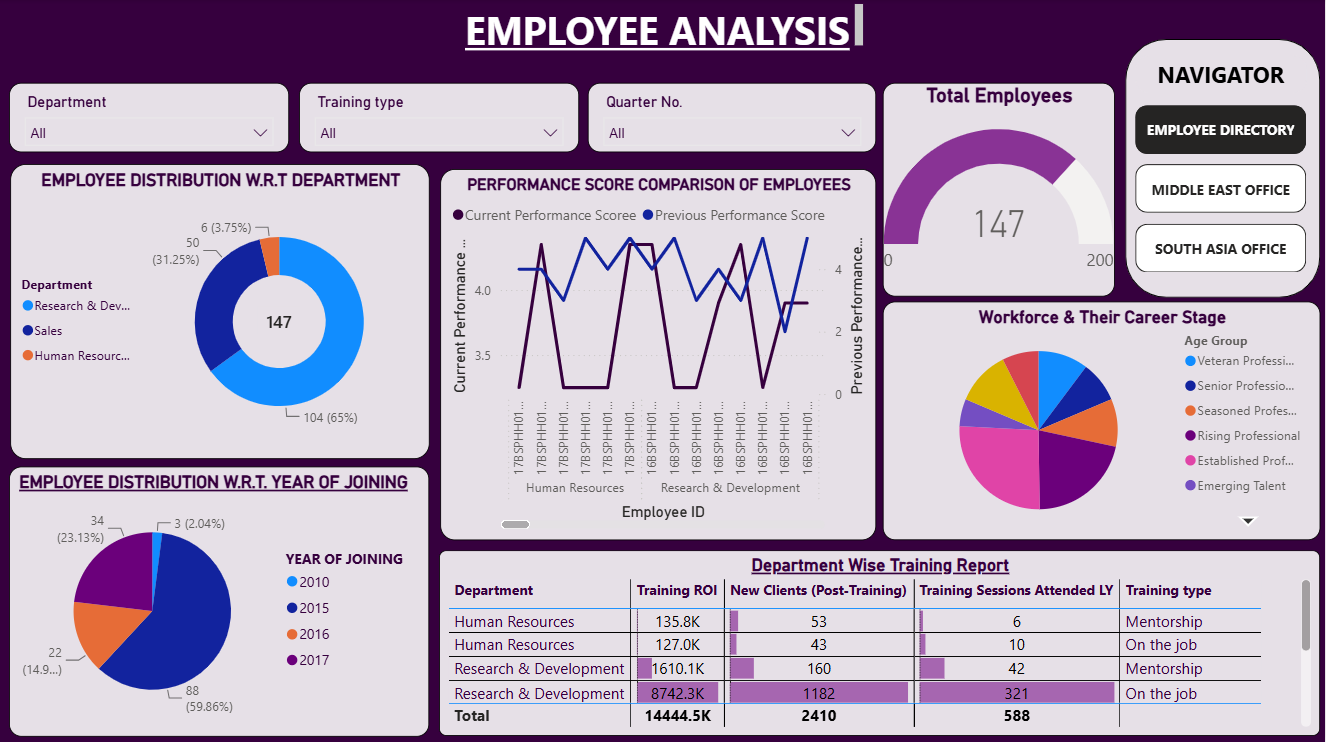

The dashboard page shown, as its layout file describes it:
{"tool":"powerbi","page":{"name":"EMPLOYEE DIRECTORY","canvas":[1280,720],"ordinal":0},"visuals":[{"type":"gauge","title":"Total Employees","fields":{"Y":["Count(Employee ID (Traning impact).Employee ID)"]},"box":[852.5,81.2,223.8,206.2],"z":0},{"type":"textbox","box":[440,0,398.6,54.3],"z":1000},{"type":"pieChart","title":"EMPLOYEE DISTRIBUTION W.R.T. YEAR OF JOINING","fields":{"Category":["Training initatives.Date of Joining.Variation.Date Hierarchy.Year","Training initatives.Date of Joining.Variation.Date Hierarchy.Month"],"Y":["CountNonNull(Training initatives.Employee ID)"]},"box":[9.7,451.2,405.4,260.6],"z":2000},{"type":"tableEx","title":"Department Wise Training Report ","fields":{"Values":["Employee ID (Traning impact).Department","Sum(Employee ID (Traning impact).Training ROI)","Sum(Employee ID (Traning impact).New client acquisition post-training)","Sum(Employee ID (Traning impact).No. of Training programs attended  Last Year)","Employee ID (Traning impact).Training type"]},"box":[424.6,531.7,850.5,179.4],"z":3000},{"type":"donutChart","title":"EMPLOYEE DISTRIBUTION W.R.T DEPARTMENT","fields":{"Category":["Employee ID (Traning impact).Department","Employee ID (Traning impact).JobRole"],"Y":["Count(Employee ID (Traning impact).Employee ID)"]},"box":[10.9,159.3,405,284.6],"z":4000,"group":"g1"},{"type":"pieChart","title":"Workforce & Their Career Stage","fields":{"Category":["Employee ID (Traning impact).Age Group","Employee ID (Traning impact).Age"],"Y":["CountNonNull(Employee ID (Traning impact).Employee ID)"]},"box":[852.5,292.5,422.5,230],"z":4000},{"type":"slicer","fields":{"Values":["Employee ID (Traning impact).Department"]},"box":[10,81.2,270,67.5],"z":5000},{"type":"slicer","fields":{"Values":["Employee ID (Traning impact).Training type"]},"box":[290,81.2,270,67.5],"z":6000},{"type":"lineChart","title":"PERFORMANCE SCORE COMPARISON OF EMPLOYEES","fields":{"Category":["Employee ID (Traning impact).Department","Training initatives.Employee ID"],"Y":["Sum(Training initatives.Current Quarter Performance Score)"],"Y2":["Sum(Training initatives.Last Quarter Performance Score)"]},"box":[425.3,163.6,420.8,358.4],"z":7000},{"type":"slicer","title":"Quarter No.","fields":{"Values":["Training initatives.Quarter No."]},"box":[568.2,80.8,278.7,67.6],"z":8000},{"type":"shape","box":[1087,38.6,188.2,249.7],"z":9000},{"type":"pageNavigator","box":[1096.7,102.9,165.7,161.4],"z":11000,"group":"g2"},{"type":"group","id":"g1","title":"Group 1","box":[10.9,159.3,405,284.6],"z":11000},{"type":"textbox","box":[1096.7,54.3,165.7,37.1],"z":12000,"group":"g2"},{"type":"group","id":"g2","title":"Group 2","box":[1096.7,54.3,166.5,209.9],"z":12000},{"type":"cardVisual","fields":{"Data":["Employee ID (Traning impact).Total Employees->Donut Chart"]},"box":[249.9,296.5,41,26.5],"z":14500,"group":"g1"}]}

Visuals, with their boxes in screenshot pixels (x1, y1, x2, y2), scaled from the page's 1280x720 canvas onto the 1326x742 screenshot:
"Total Employees" gauge: crop(883, 84, 1115, 296)
textbox: crop(456, 0, 869, 56)
"EMPLOYEE DISTRIBUTION W.R.T. YEAR OF JOINING" pieChart: crop(10, 465, 430, 734)
"Department Wise Training Report " tableEx: crop(440, 548, 1321, 733)
"EMPLOYEE DISTRIBUTION W.R.T DEPARTMENT" donutChart: crop(11, 164, 431, 457)
"Workforce & Their Career Stage" pieChart: crop(883, 301, 1321, 538)
slicer - Employee ID (Traning impact).Department: crop(10, 84, 290, 153)
slicer - Employee ID (Traning impact).Training type: crop(300, 84, 580, 153)
"PERFORMANCE SCORE COMPARISON OF EMPLOYEES" lineChart: crop(441, 169, 877, 538)
"Quarter No." slicer: crop(589, 83, 877, 153)
shape: crop(1126, 40, 1321, 297)
pageNavigator: crop(1136, 106, 1308, 272)
"Group 1" group: crop(11, 164, 431, 457)
textbox: crop(1136, 56, 1308, 94)
"Group 2" group: crop(1136, 56, 1309, 272)
cardVisual - Employee ID (Traning impact).Total Employees->Donut Chart: crop(259, 306, 301, 333)
